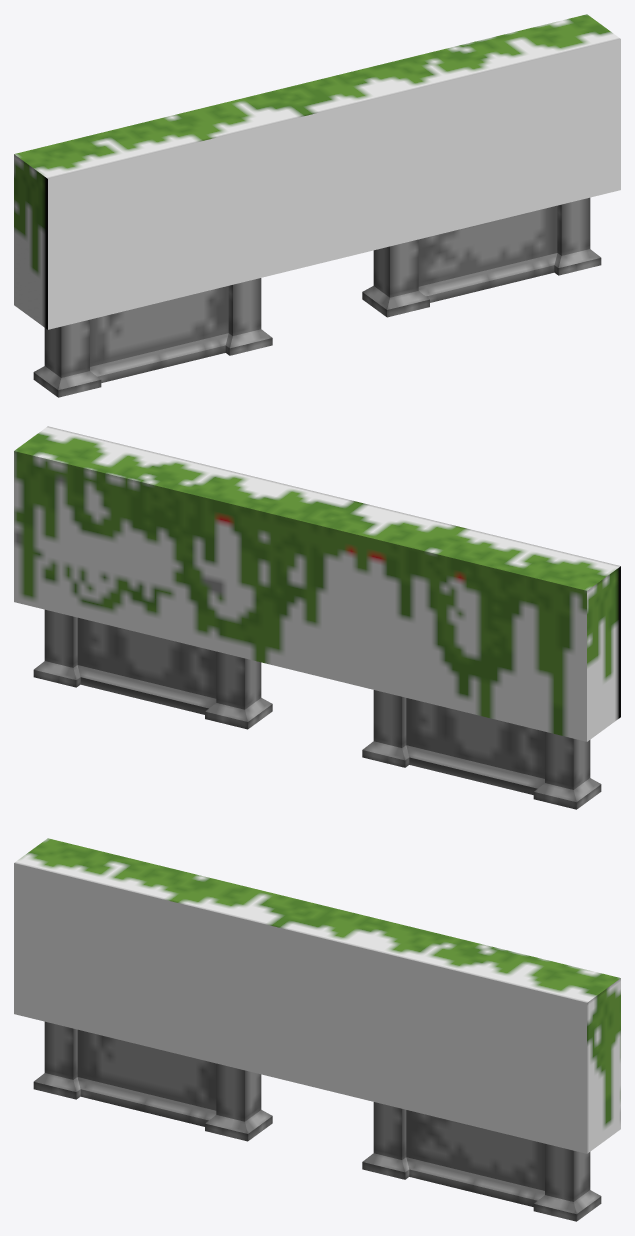
File: ruinsEntrance.fbx
3 views of the same model, one above another, from view 1: azimuth 30°, elevation 25°; view 2: azimuth 150°, elevation 25°; view 3: azimuth 330°, elevation 25° (orthographic).
Visible parts, largest first — view 1: polySurface62; view 2: polySurface62; view 3: polySurface62.
Boxes of the visible parts, x1,y1,x2,y2 form: polySurface62: (14, 14, 620, 397); polySurface62: (14, 426, 620, 809); polySurface62: (14, 838, 620, 1221).
Size of the model in its own units: 20.05 by 7.55 by 2.05.
3 materials, 3 textured.
